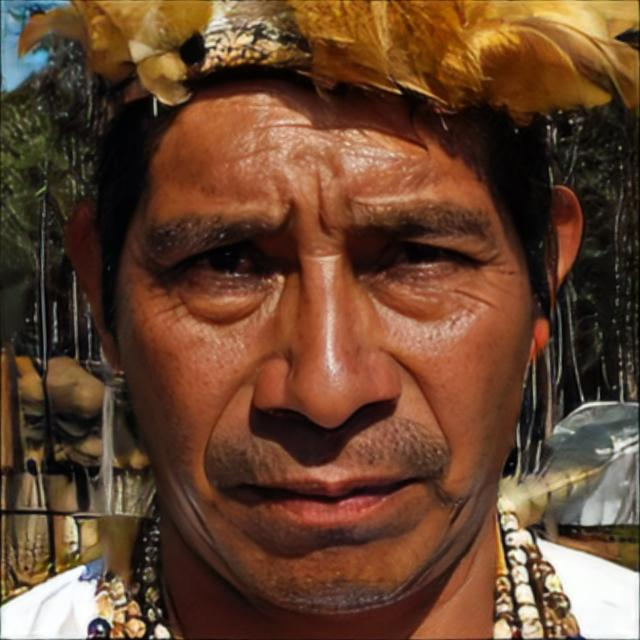sad: (119, 89, 527, 604)
